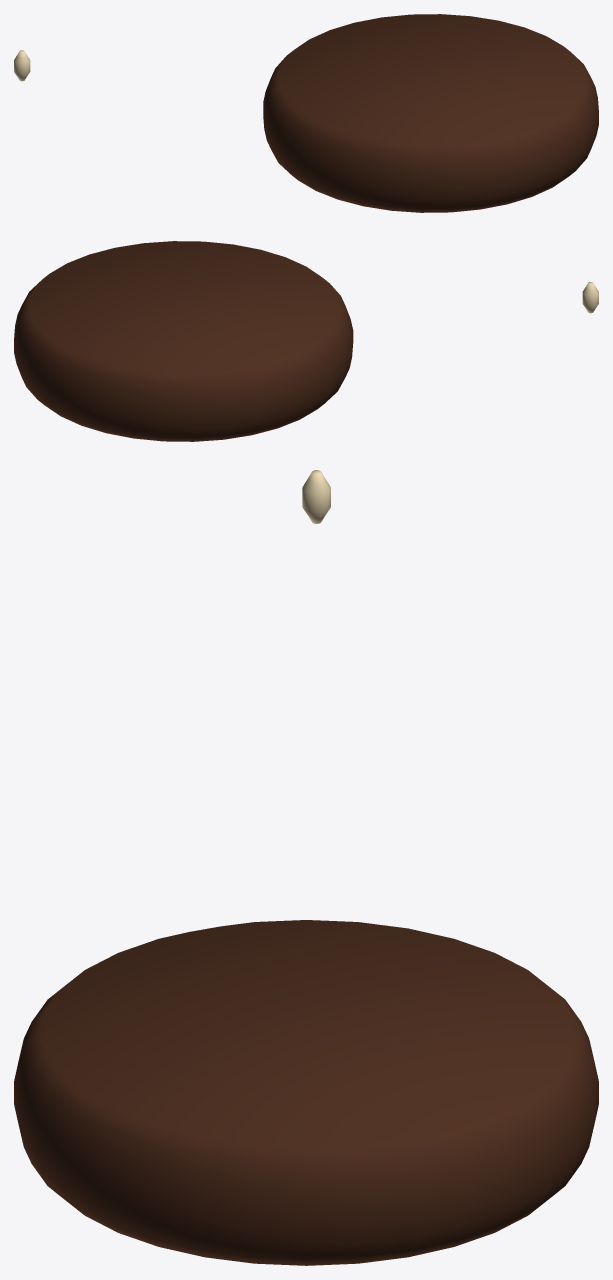
Rendered from carne.glb.
3 renders of one model, top to bottom at view 1: azimuth 30°, elevation 25°; view 2: azimuth 150°, elevation 25°; view 3: azimuth 270°, elevation 25°, orthographic. The views are drawn at different scales.
Visible parts, largest first — view 1: CARNE, SEMILLA; view 2: CARNE, SEMILLA; view 3: CARNE, SEMILLA.
Part boxes in pixels (bbox=[...]): CARNE: bbox=[263, 14, 598, 212]; SEMILLA: bbox=[14, 50, 30, 81]; CARNE: bbox=[14, 241, 353, 441]; SEMILLA: bbox=[582, 282, 598, 313]; CARNE: bbox=[14, 920, 598, 1265]; SEMILLA: bbox=[302, 470, 330, 523].
Bounding box in the file's own units: 11.84 × 3.92 × 6.18.
